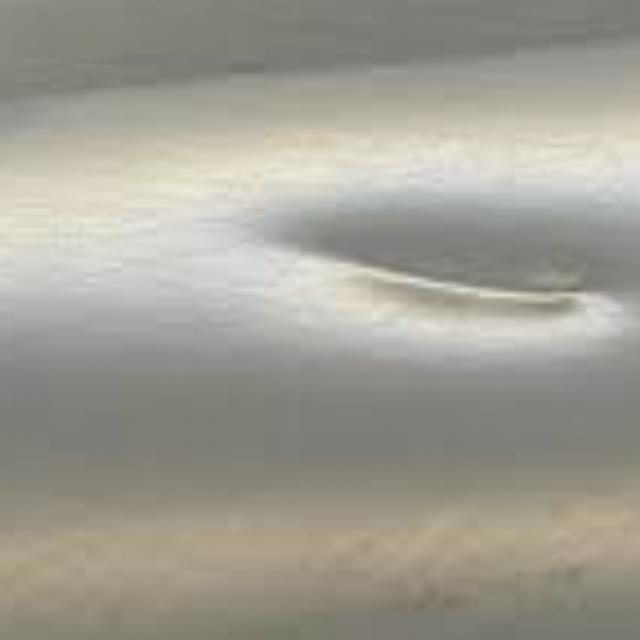dents: (233, 174, 623, 357)
